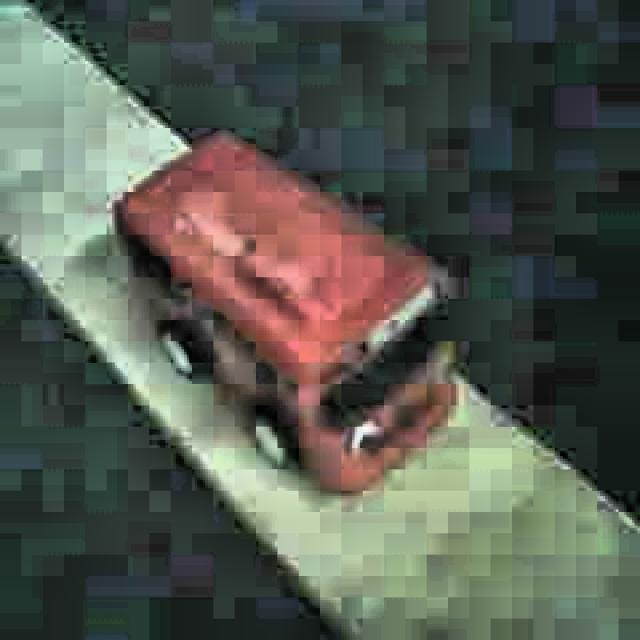bus: (110, 127, 459, 497)
